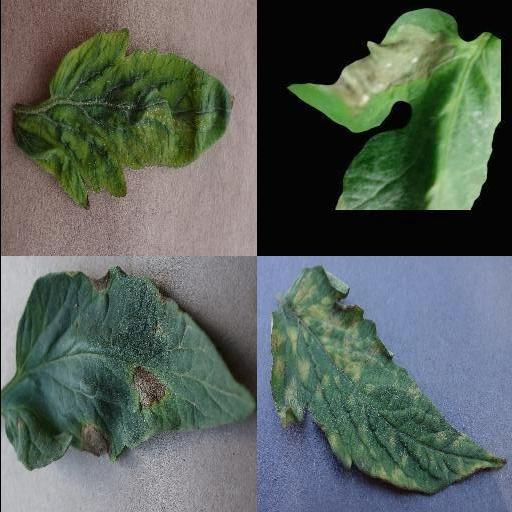Early Blight: (0, 266, 254, 470)
Late Blight: (282, 9, 500, 209)
Leaf Mold: (269, 266, 505, 495)
Yellow Leaf Curl Virus: (13, 27, 235, 209)
